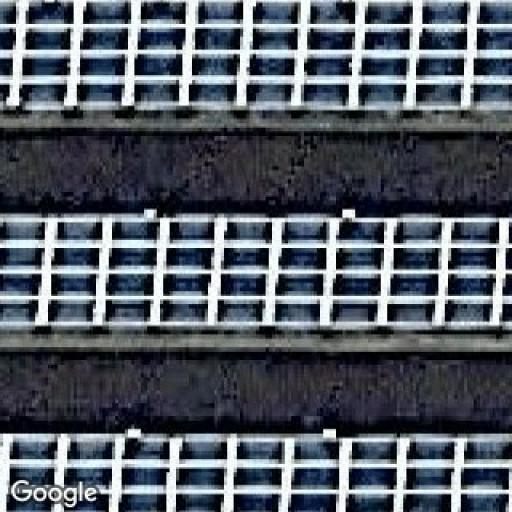solar-panel: (0, 213, 512, 336), (0, 0, 512, 120), (0, 435, 512, 512)
